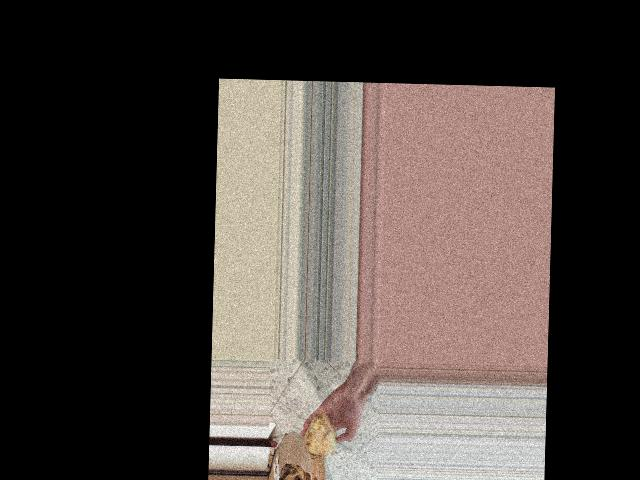onion: (301, 405, 343, 462)
